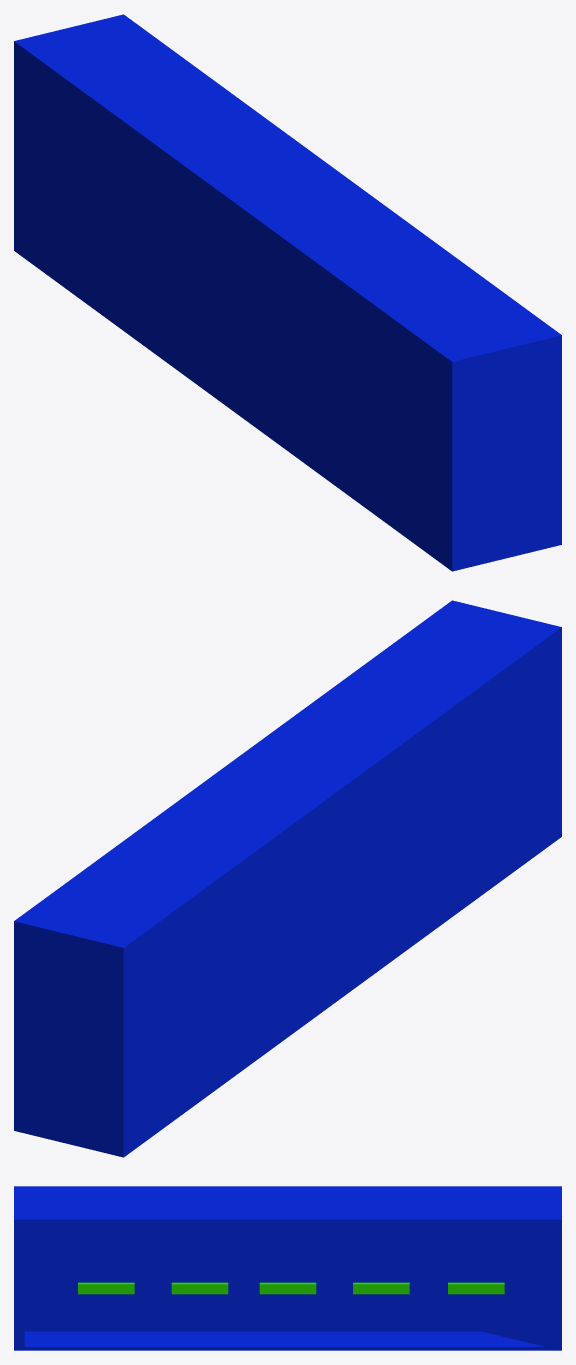
Rendered from store_rack.fbx.
3 renders of one model, top to bottom at view 1: azimuth 30°, elevation 25°; view 2: azimuth 150°, elevation 25°; view 3: azimuth 270°, elevation 25°, orthographic. The views are drawn at different scales.
Visible parts, largest first — view 1: Cube.003; view 2: Cube.003; view 3: Cube.003.
Boxes of the visible parts, x1,y1,x2,y2 form: Cube.003: (14,14,561,571); Cube.003: (14,600,561,1157); Cube.003: (14,1186,561,1350).
Bounding box in the file's own units: 210 × 365 × 1383.
